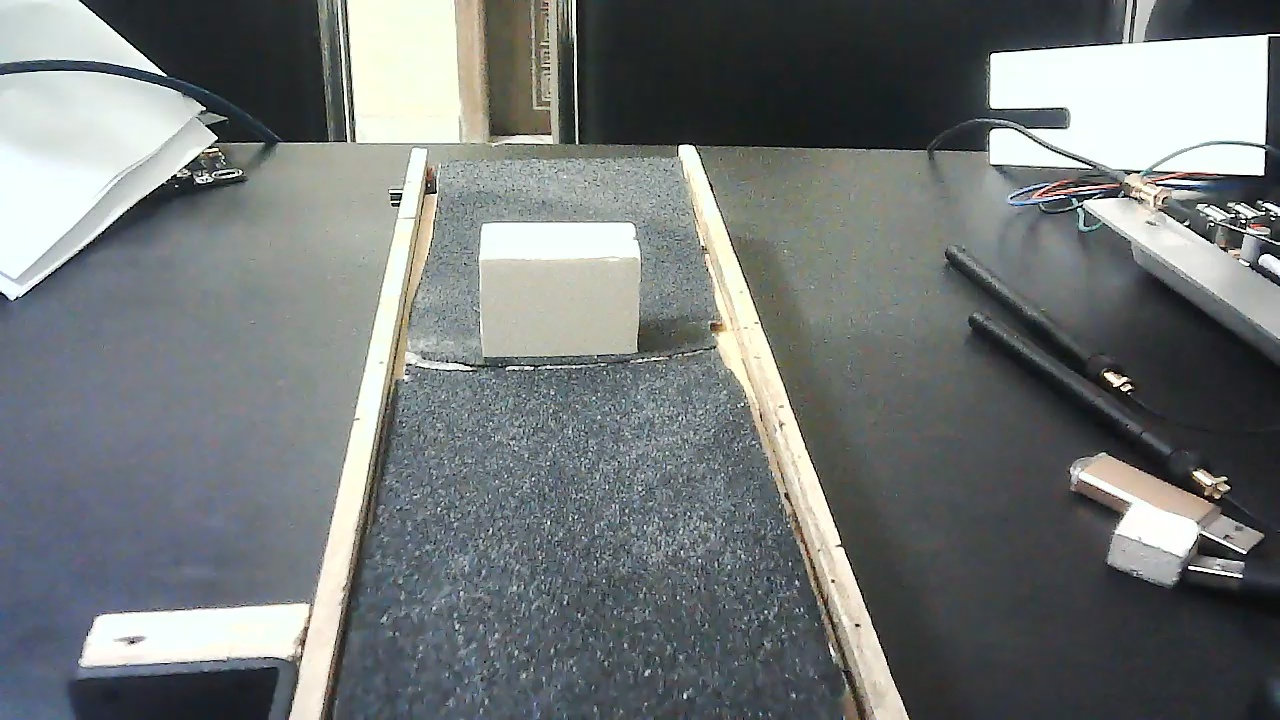BIG: (479, 209, 640, 370)
